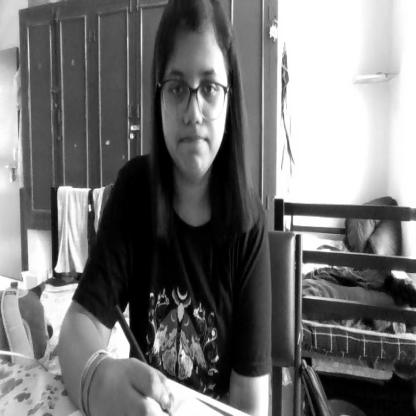Normal: (152, 8, 234, 179)
